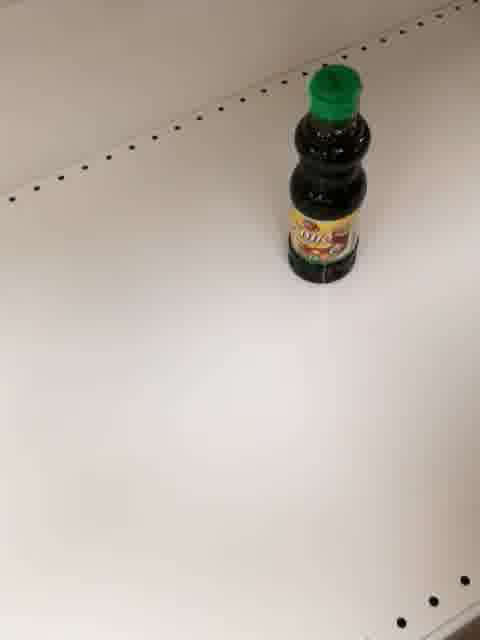cookingoil: (282, 56, 376, 288)
